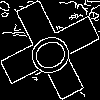O: (25, 25, 84, 81)
